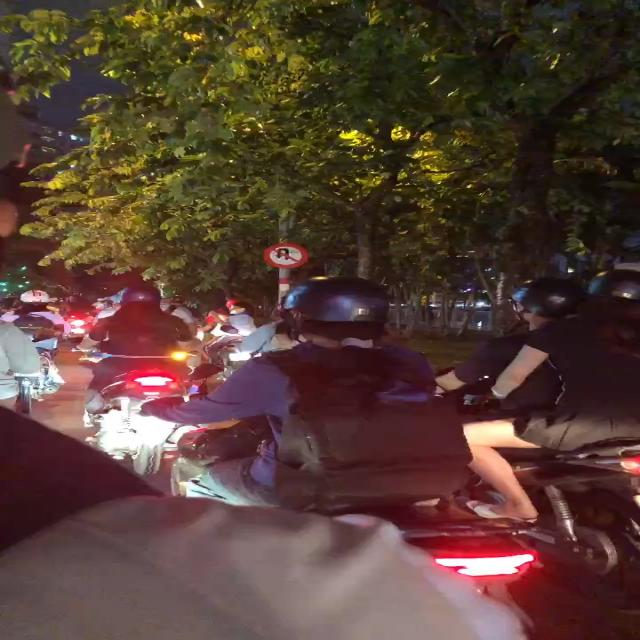Bien bao toc do toi da cho phep: (264, 242, 312, 271)
